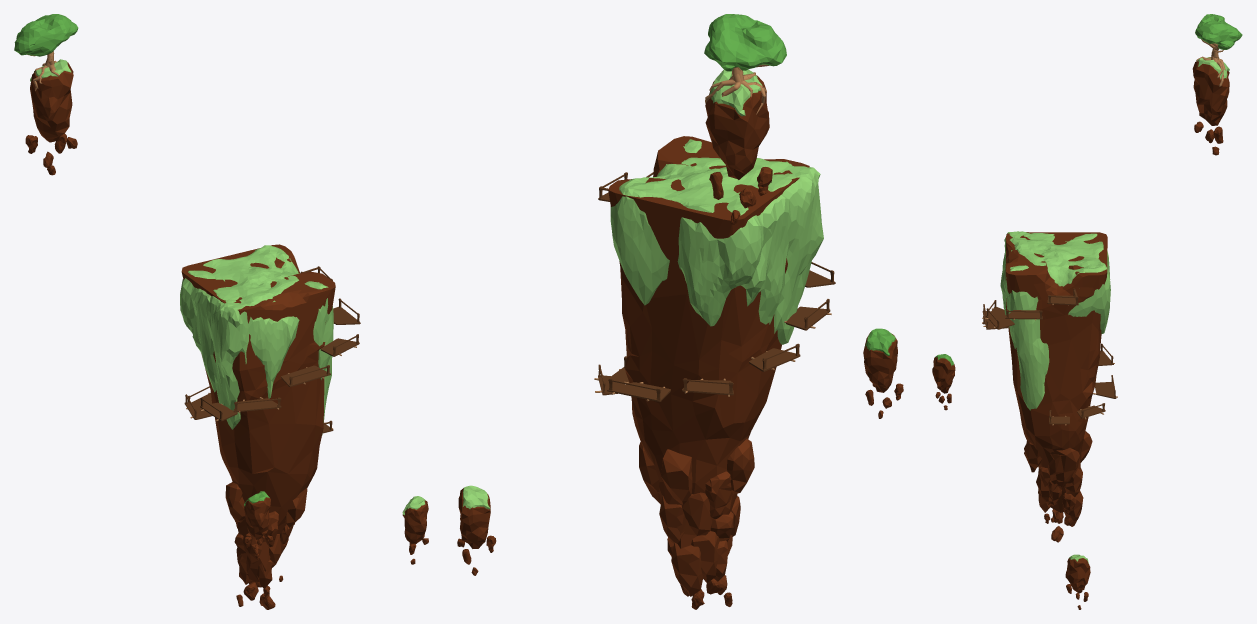
File: Uno_Isola5.fbx
3 views of the same model, side by side, from view 1: azimuth 30°, elevation 25°; view 2: azimuth 150°, elevation 25°; view 3: azimuth 270°, elevation 25° (orthographic). The views are drawn at different scales.
Visible parts, largest first — view 1: Plane.008, Plane.019, Sphere.125, Mball.003, Sphere.126, Sphere.055, Plane.014, Sphere.006; view 2: Plane.008, Plane.019, Sphere.125, Mball.003, Sphere.000, Sphere.022, Sphere.126, Sphere.055, Sphere.006, Sphere.124, Sphere.016, Sphere.018 (+8 smaller); view 3: Plane.008, Plane.019, Sphere.125, Mball.003, Sphere.021, Sphere.055, Sphere.126.
Boxes of the visible parts, left/top/right/bottom form: Plane.008: left=181, top=244, right=335, bottom=582; Plane.019: left=180, top=245, right=333, bottom=435; Sphere.125: left=30, top=62, right=73, bottom=142; Mball.003: left=14, top=14, right=78, bottom=56; Sphere.126: left=244, top=497, right=270, bottom=539; Sphere.055: left=402, top=500, right=428, bottom=544; Plane.014: left=281, top=365, right=330, bottom=386; Sphere.006: left=225, top=482, right=245, bottom=522; Plane.008: left=608, top=136, right=809, bottom=555; Plane.019: left=610, top=139, right=823, bottom=344; Sphere.125: left=705, top=75, right=769, bottom=179; Mball.003: left=704, top=14, right=786, bottom=71; Sphere.000: left=661, top=449, right=692, bottom=504; Sphere.022: left=671, top=542, right=703, bottom=596; Sphere.126: left=863, top=332, right=897, bottom=392; Sphere.055: left=458, top=488, right=490, bottom=548; Sphere.006: left=727, top=438, right=754, bottom=493; Sphere.124: left=709, top=69, right=762, bottom=116; Sphere.016: left=681, top=492, right=711, bottom=535; Sphere.018: left=705, top=471, right=733, bottom=519; Plane.008: left=1005, top=232, right=1107, bottom=512; Plane.019: left=1000, top=231, right=1110, bottom=410; Sphere.125: left=1192, top=61, right=1229, bottom=125; Mball.003: left=1195, top=14, right=1242, bottom=49; Sphere.021: left=1048, top=448, right=1079, bottom=489; Sphere.055: left=1065, top=558, right=1090, bottom=593; Sphere.126: left=932, top=357, right=955, bottom=393.
Bounding box in the file's own units: 451 × 722 × 430.
